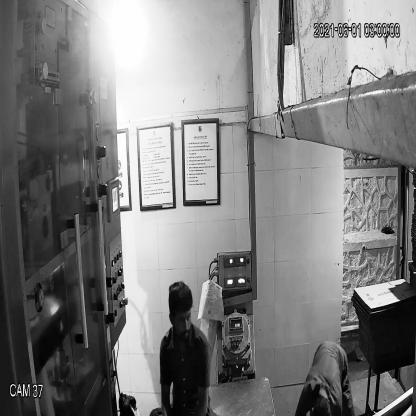no_goggles: (166, 306, 194, 329)
